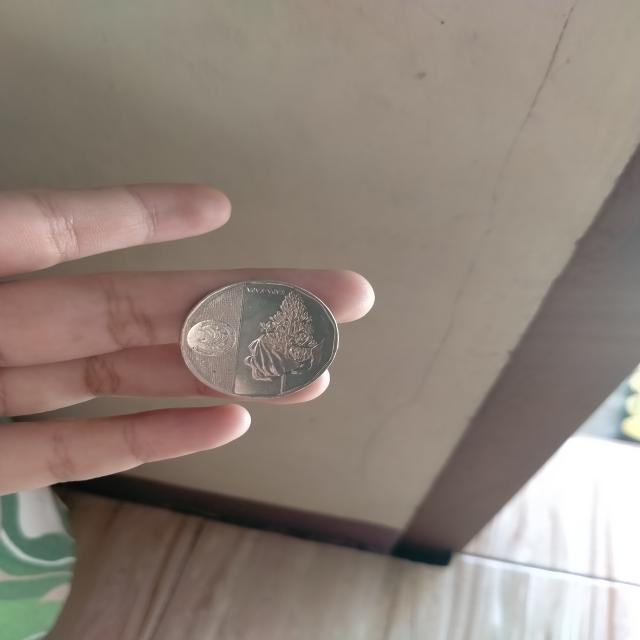10_New_Back: (239, 279, 326, 403)
